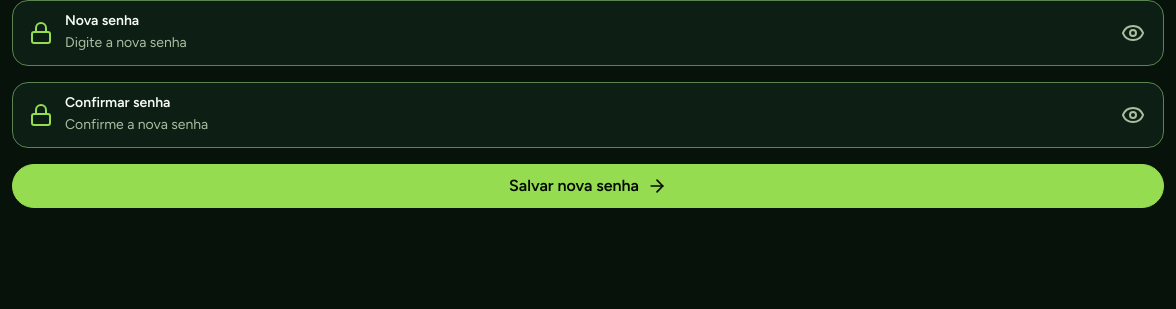
NovaSenhaForm › senha que não foi salva depois de gastar o link pede um novo link
Step 1. Type "nova-senha-123" into the password field labelled "Nova senha" → (582, 43), box [65, 31, 1099, 55]
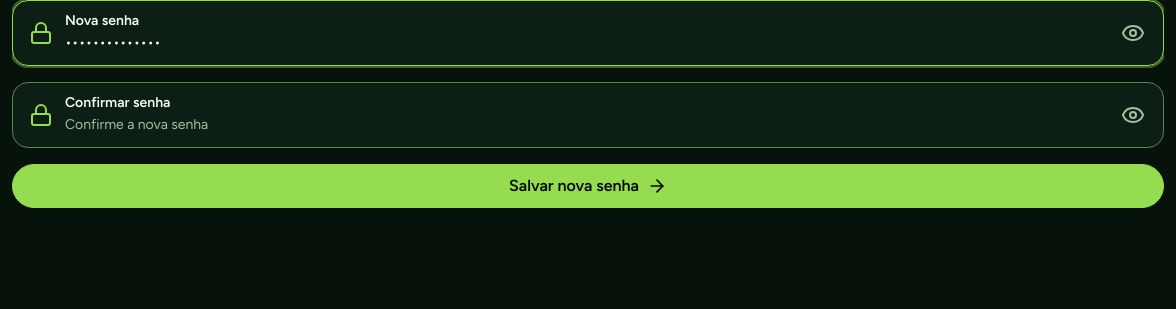
Step 2. Type "nova-senha-123" into the password field labelled "Confirmar senha" → (582, 125), box [65, 113, 1099, 137]
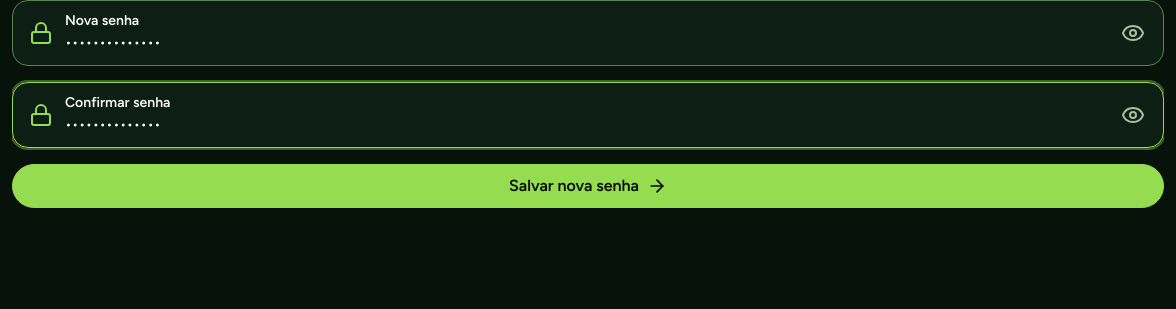
Step 3. Click the button "Salvar nova senha" → (588, 186), box [12, 164, 1164, 208]
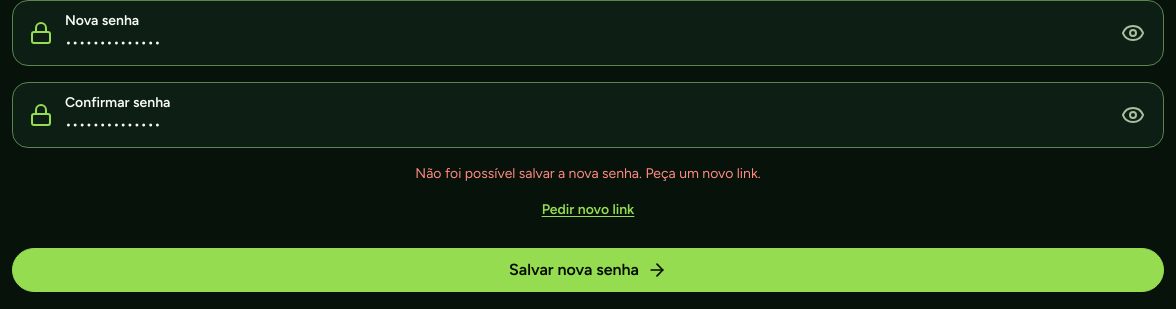
Check: the text "Não foi possível salvar a nova senha. Peça um novo link." is shown, box [415, 164, 761, 184]
